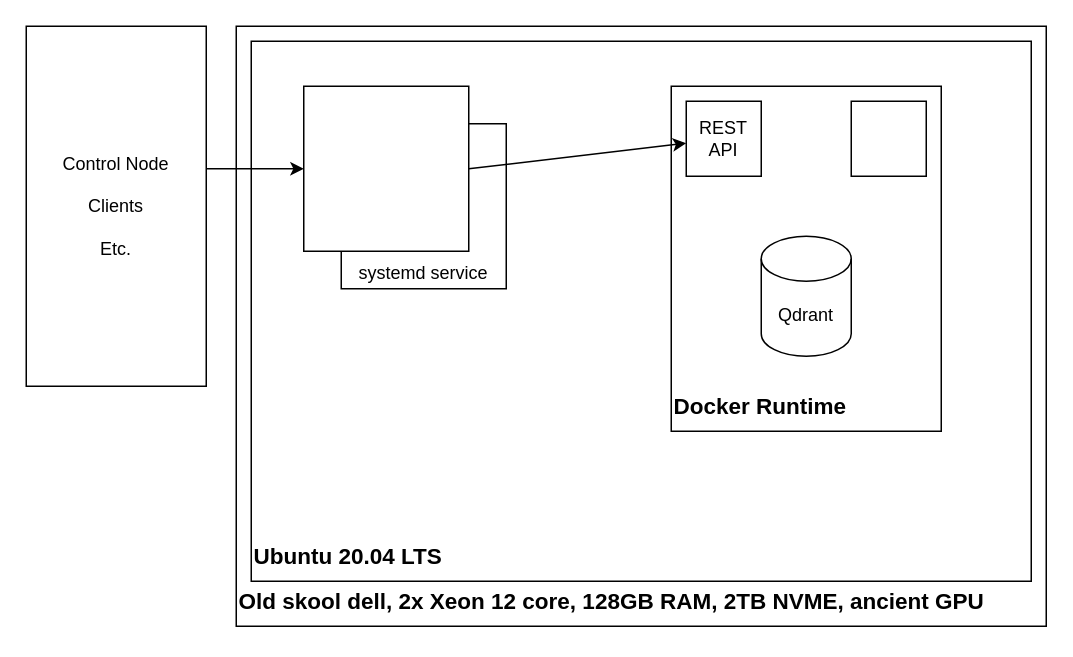
Some shapes in this 1073 by 657 pixel diagram are drawn without their labels. The shapes that lost their labels are listed below. From the top down, each one's centre as x and y in pixels, then its label:
the point at 888,138: gRPC API
the point at 385,168: Vatrix-Receiver (FastAPI)
